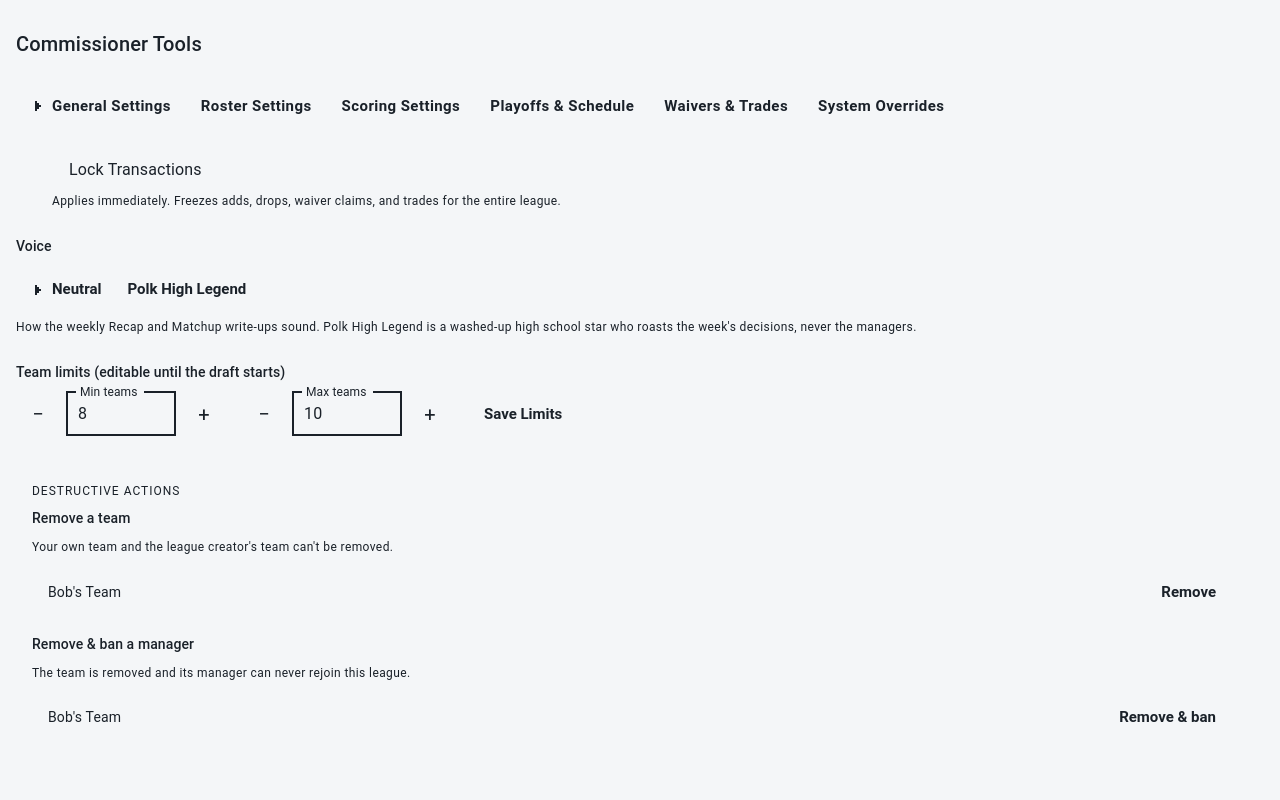
Test: Roster Settings reads exactly as before for a league with no IR slot
This screenshot has width=1280, height=800.
Click the tab "Roster Settings".
click(256, 106)  # box [185, 84, 328, 128]
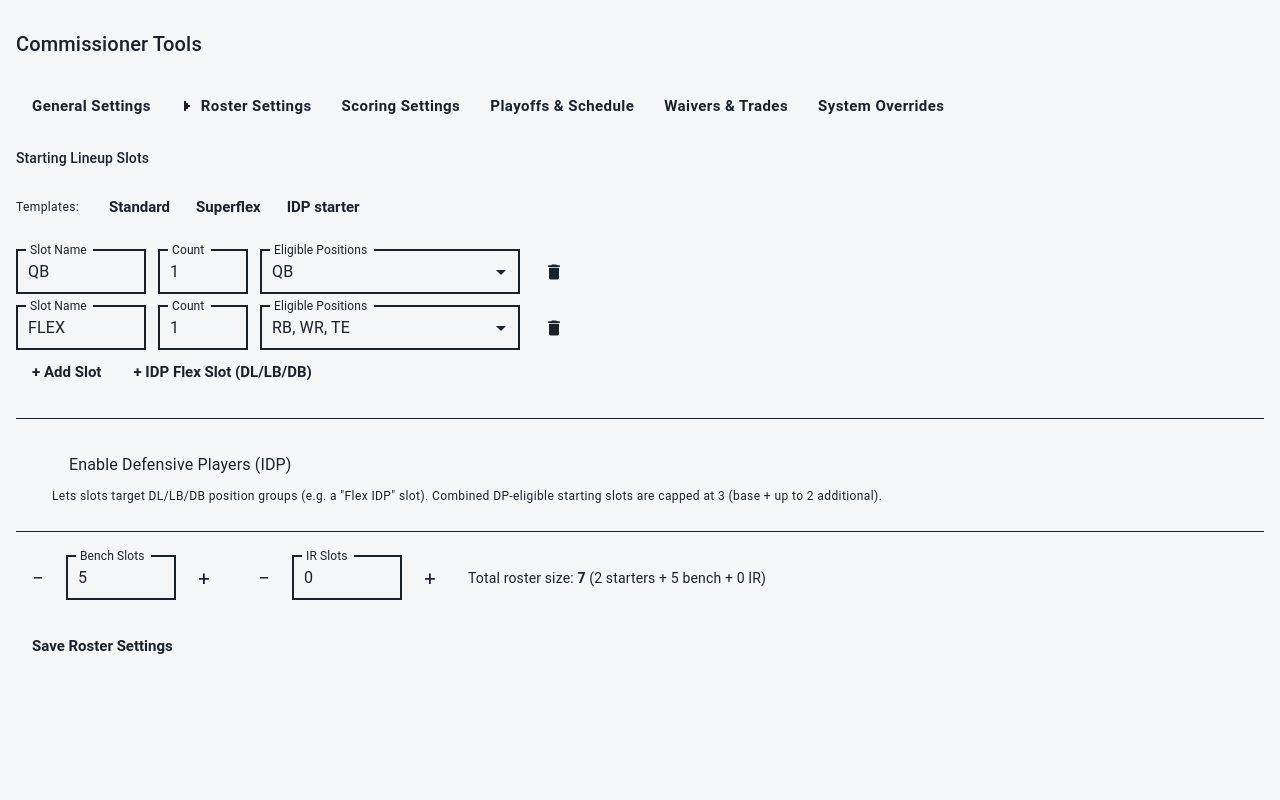
expect the text "Total roster size: 7 (2 starters + 5 bench + 0 IR)" is shown: met, box [468, 568, 766, 588]
